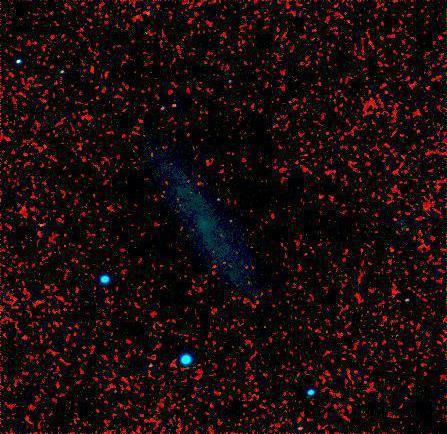star: (216, 209, 246, 239)
